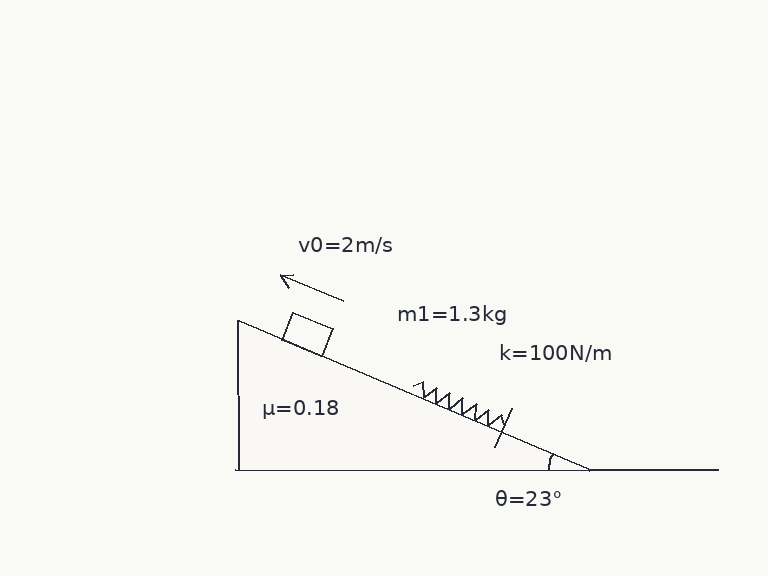block: (280, 309, 334, 358)
ramp: (235, 319, 591, 472)
spring: (411, 380, 507, 427)
